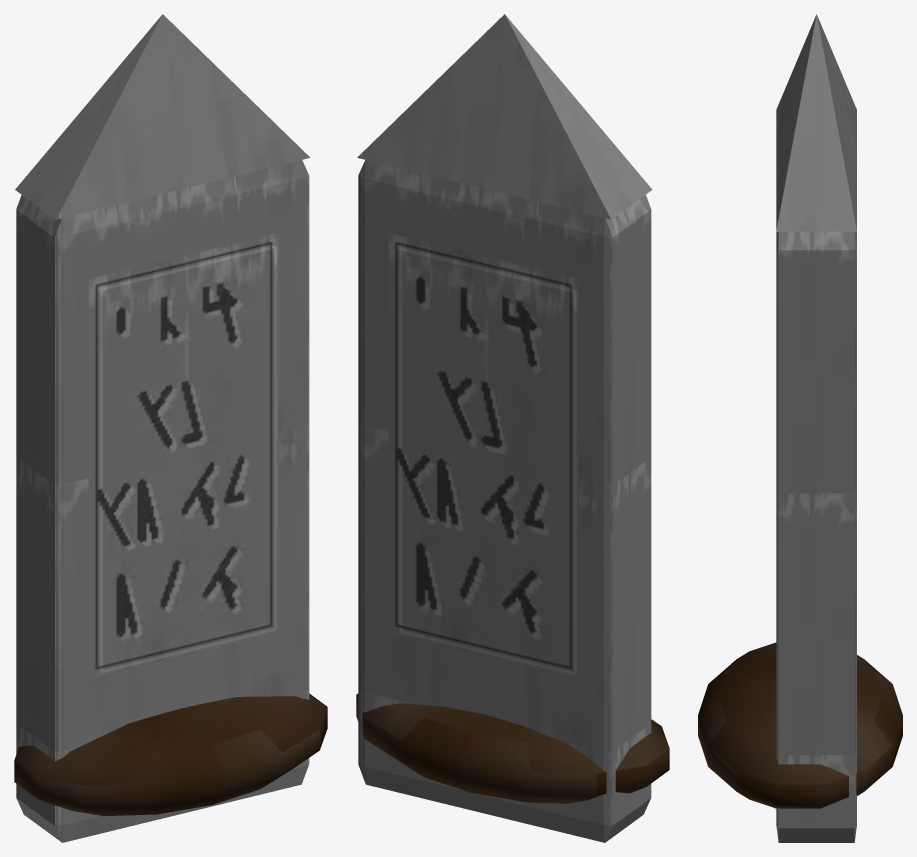
The model's file is tstone4.glb.
The picture shows the model from 3 angles, left to right: view 1: azimuth 30°, elevation 25°; view 2: azimuth 150°, elevation 25°; view 3: azimuth 270°, elevation 25°; orthographic projection.
Visible parts, largest first — view 1: box; view 2: box; view 3: box.
Boxes of the visible parts, left/top/right/bottom form: box: left=14, top=14, right=327, bottom=842; box: left=356, top=14, right=669, bottom=842; box: left=698, top=14, right=902, bottom=842.
Size of the model in its own units: 0.4566 by 1.18 by 0.2841.
4 materials, 4 textured.
